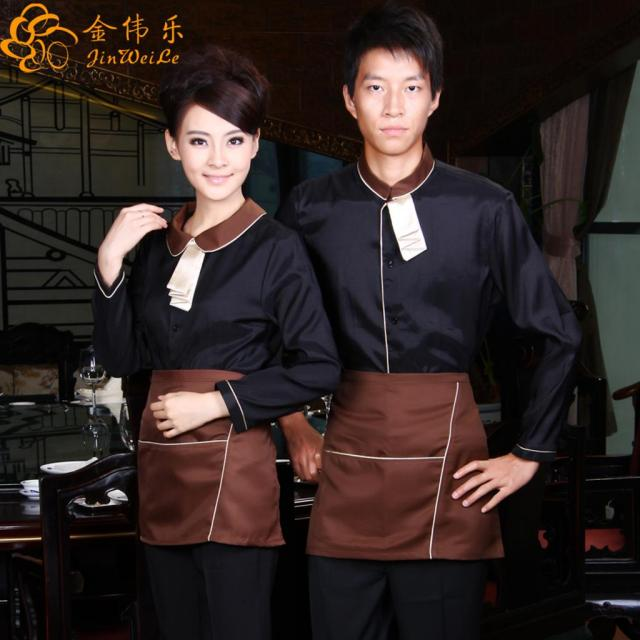nomask: (355, 48, 429, 154), (181, 101, 250, 201)
